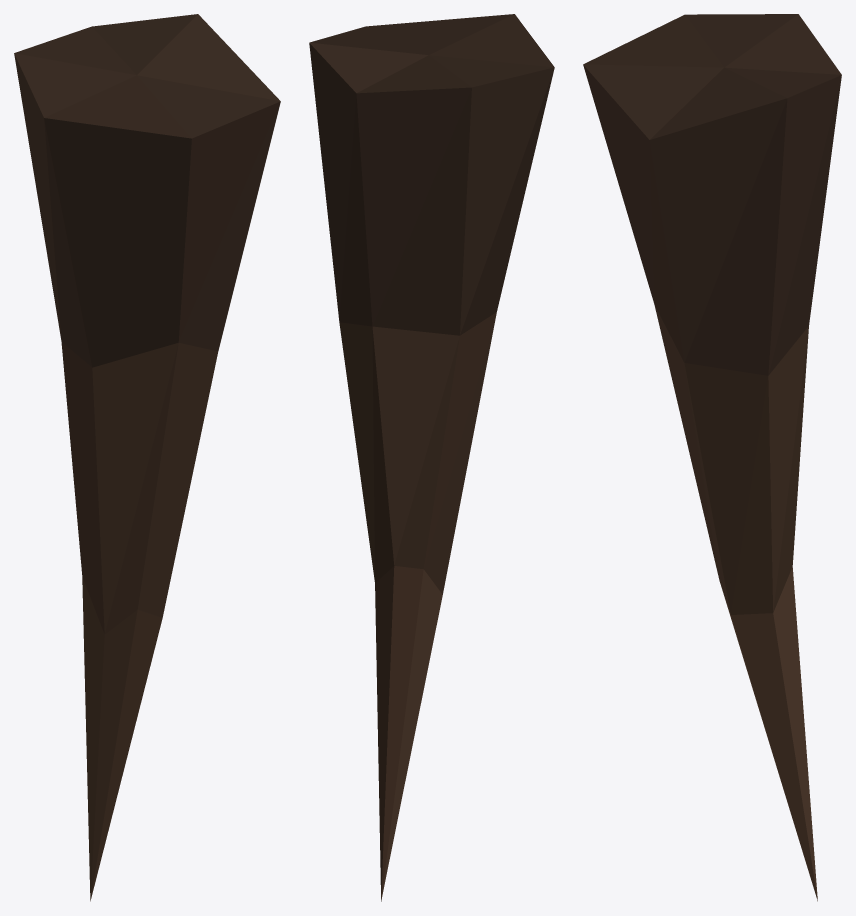
Rendered from tl_env_stalactite_a_v01.glb.
3 views of the same model, side by side, from view 1: azimuth 30°, elevation 25°; view 2: azimuth 150°, elevation 25°; view 3: azimuth 270°, elevation 25° (orthographic). The views are drawn at different scales.
Parts seen in each view (by area): view 1: tl_env_stalactite_a_v01; view 2: tl_env_stalactite_a_v01; view 3: tl_env_stalactite_a_v01.
Part boxes in pixels (bbox=[...]): tl_env_stalactite_a_v01: bbox=[14, 14, 280, 901]; tl_env_stalactite_a_v01: bbox=[309, 14, 554, 901]; tl_env_stalactite_a_v01: bbox=[583, 14, 841, 901].
Size of the model in its own units: 0.7976 by 3.06 by 0.8471.
